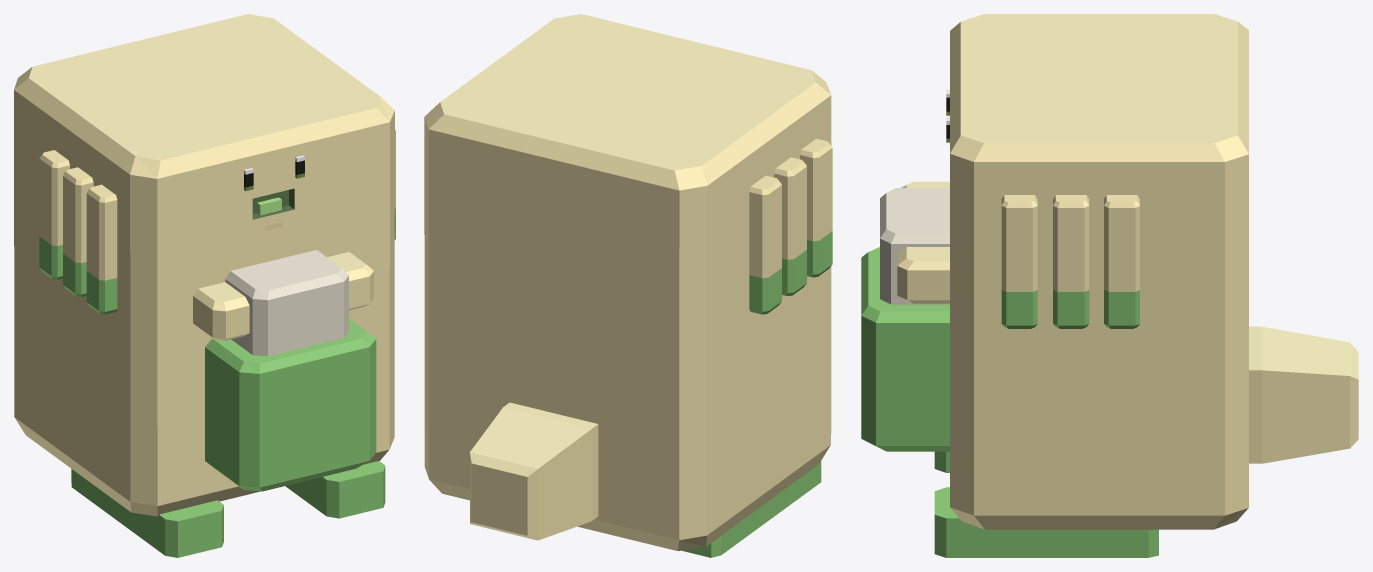
Rendered from model_shiny.obj.
3 renders of one model, left to right at view 1: azimuth 30°, elevation 25°; view 2: azimuth 150°, elevation 25°; view 3: azimuth 270°, elevation 25°, orthographic. The views are drawn at different scales.
Visible parts, largest first — view 1: 0113_chansey_shiny; view 2: 0113_chansey_shiny; view 3: 0113_chansey_shiny.
Boxes of the visible parts, box(x1,y1,x2,y2) form: 0113_chansey_shiny: box(14, 14, 395, 557); 0113_chansey_shiny: box(424, 14, 832, 557); 0113_chansey_shiny: box(861, 14, 1358, 557).
Size of the model in its own units: 2.03 by 2.55 by 2.73.
Materials: 1 (1 with a texture image).
